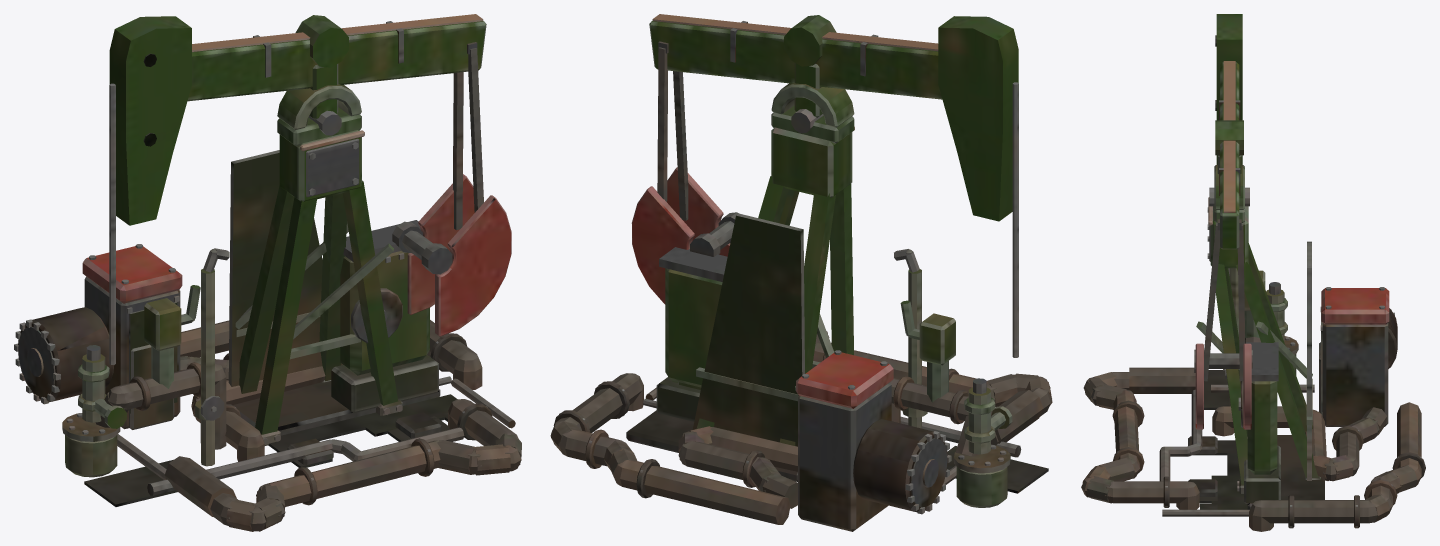
Rendered from pumpjack-west.glb.
The picture shows the model from 3 angles, left to right: view 1: azimuth 30°, elevation 25°; view 2: azimuth 150°, elevation 25°; view 3: azimuth 270°, elevation 25°; orthographic projection. The views are drawn at different scales.
Parts seen in each view (by area): view 1: anim_upright_still, body, anim_upright_rock_beam, anim_upright_spin_crank; view 2: anim_upright_still, body, anim_upright_rock_beam, anim_upright_spin_crank; view 3: body, anim_upright_still, anim_upright_rock_beam, anim_upright_spin_crank.
Boxes of the visible parts, x1,y1,x2,y2 form: anim_upright_still: (62, 42, 483, 506); body: (14, 244, 521, 531); anim_upright_rock_beam: (109, 14, 486, 225); anim_upright_spin_crank: (392, 174, 511, 336); anim_upright_still: (626, 41, 1048, 507); body: (550, 331, 1052, 531); anim_upright_rock_beam: (649, 14, 1018, 221); anim_upright_spin_crank: (631, 167, 738, 304); body: (1081, 287, 1425, 531); anim_upright_still: (1188, 165, 1324, 509); anim_upright_rock_beam: (1215, 14, 1243, 249); anim_upright_spin_crank: (1194, 343, 1252, 429).
Bounding box in the file's own units: 3.23 × 3.45 × 2.89.
1 material, 1 textured.
